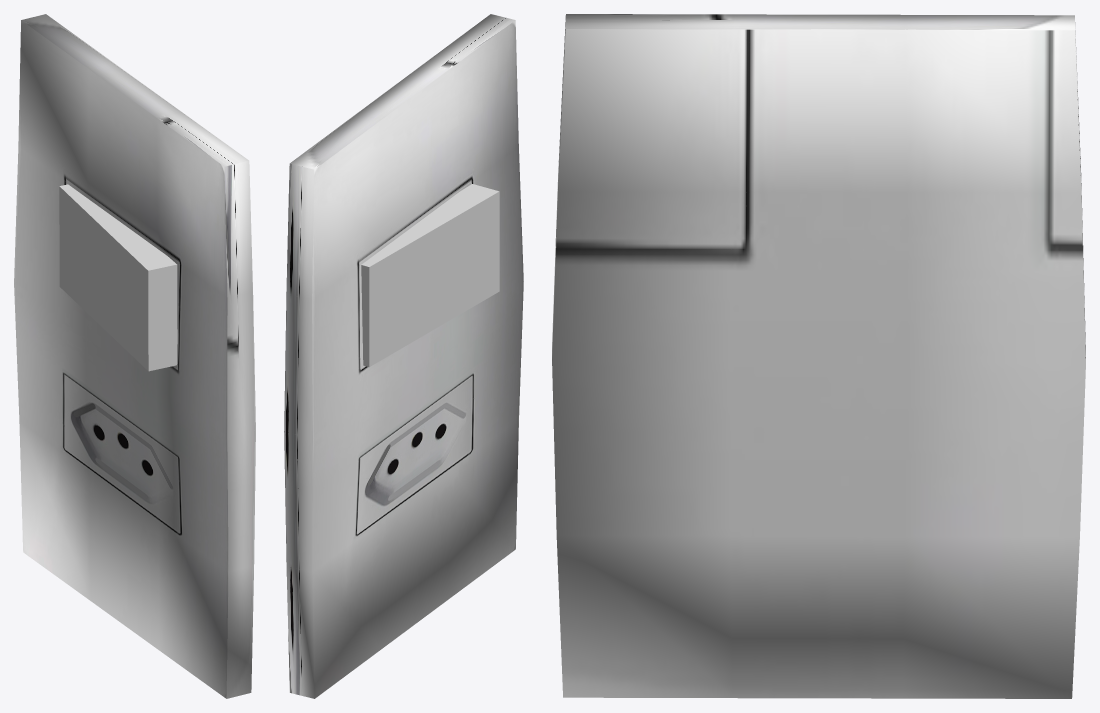
The model's file is InterruptorLuz.fbx.
3 views of the same model, side by side, from view 1: azimuth 30°, elevation 25°; view 2: azimuth 150°, elevation 25°; view 3: azimuth 270°, elevation 25° (orthographic). The views are drawn at different scales.
Parts seen in each view (by area): view 1: Interruptor.002, Interruptor.010; view 2: Interruptor.002, Interruptor.010; view 3: Interruptor.002.
Part boxes in pixels (bbox=[...]): Interruptor.002: bbox=[14, 14, 255, 698]; Interruptor.010: bbox=[59, 184, 177, 371]; Interruptor.002: bbox=[284, 14, 523, 698]; Interruptor.010: bbox=[361, 184, 499, 367]; Interruptor.002: bbox=[552, 14, 1085, 698].
Size of the model in its own units: 0.0353 by 0.3204 by 0.2315.
Materials: 2 (1 with a texture image).
